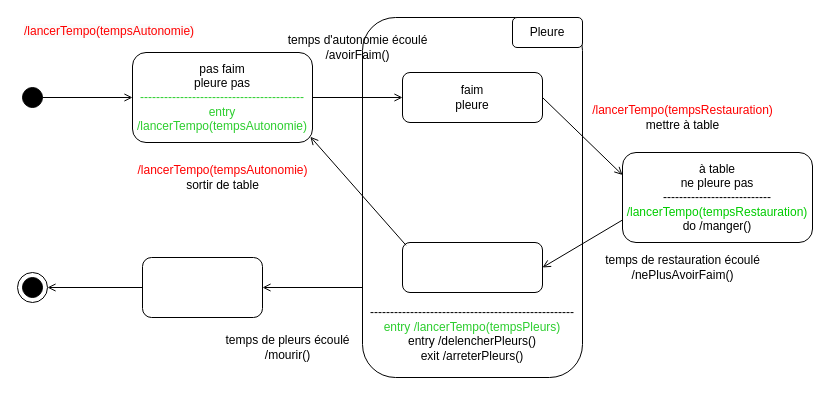
The diagram is 830 pixels wide and 395 high, and some of its shapes have lost their labels. The centre of each missing label's shape, as x and y in pixels:
mort: pixel 202 287
à table pleure: pixel 472 267
